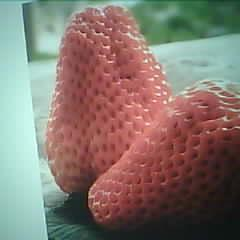straw-ripe: (48, 6, 176, 193), (87, 79, 240, 233)
